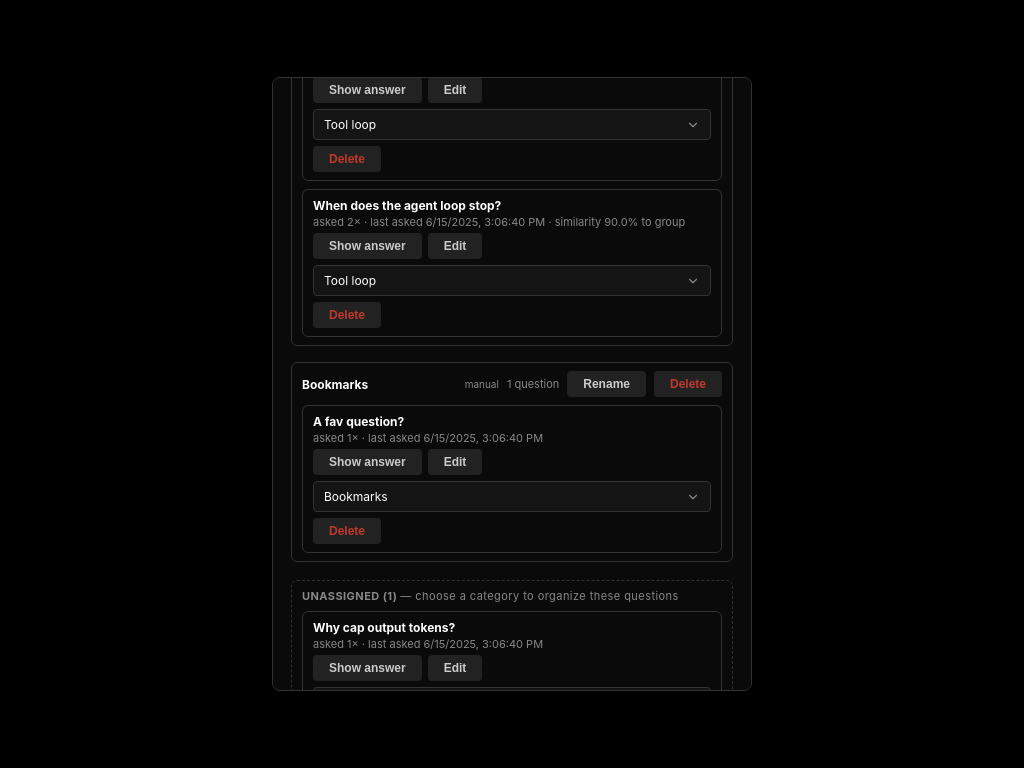
FaqPanel › renames a manual category and allows automatic category renames
This screenshot has width=1024, height=768.
(page scrolled)
Expected: the text "Bookmarks" next to "manual" is shown, [302,377,368,392]
Manual category rename flow.
Click the button "Rename" at (607, 384), box [567,371,646,397]
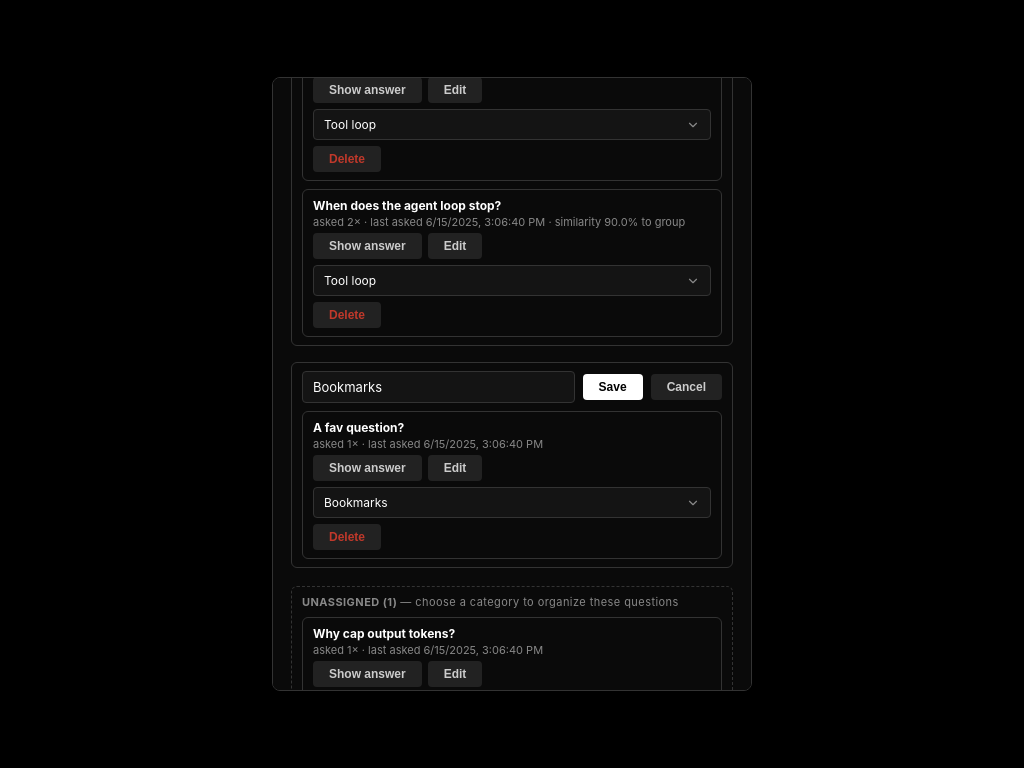
Replace the text in the field named "Category name" with "General" at (438, 387), box [302,371,575,403]
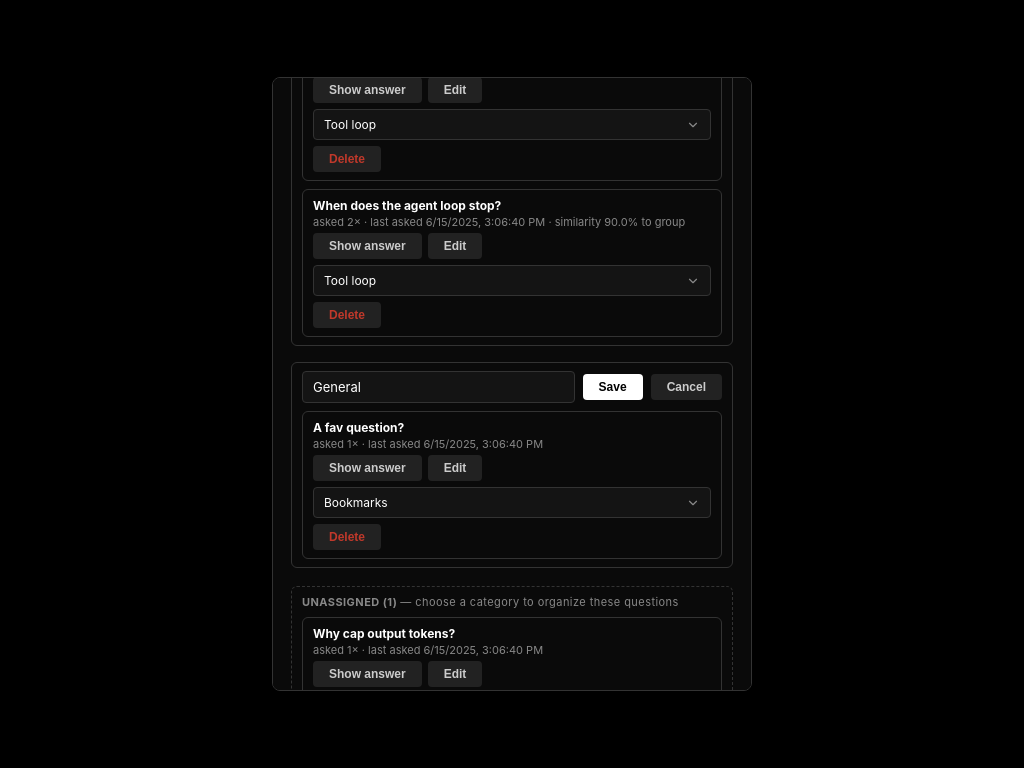
Click the button "Save" at (613, 387), box [583,374,643,400]
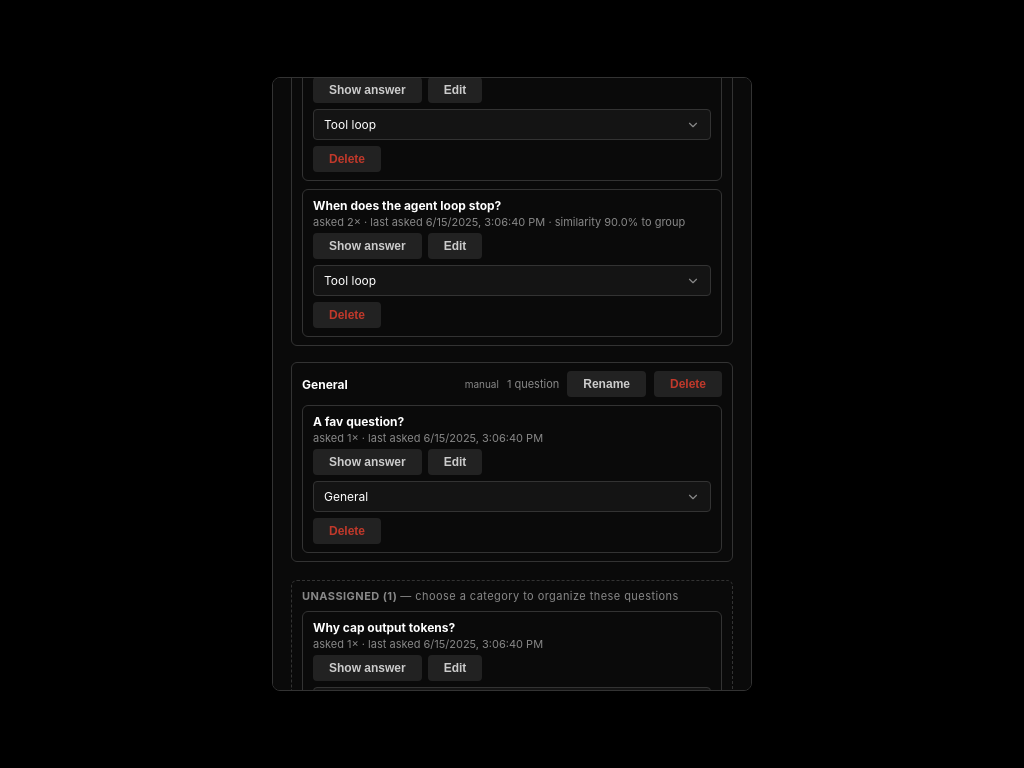
Expected: the text "General" next to "manual" is shown, [302,377,348,392]
Expected: the text "General" below "A fav question?" is shown, [324,489,368,504]
